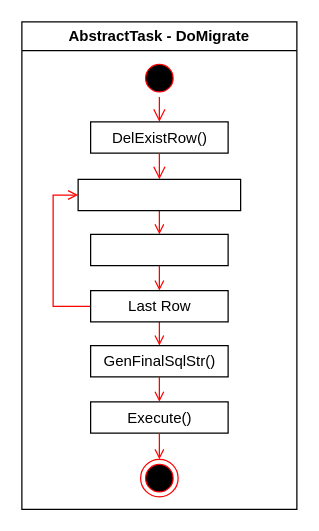
The diagram is 319 pixels wide and 531 high, and some of its shapes have lost their labels. The centre of each missing label's shape, as x and y in pixels:
Foreach Source Row: (x=159, y=194)
GenSingleSqlStr(): (x=158, y=249)
